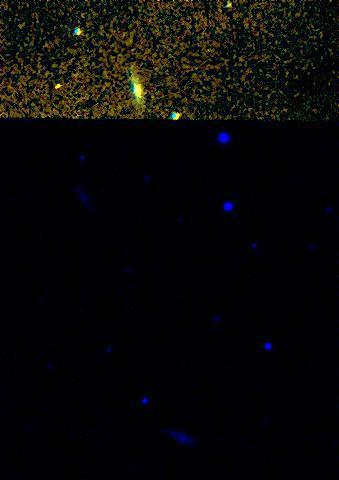star: (44, 70, 74, 100)
